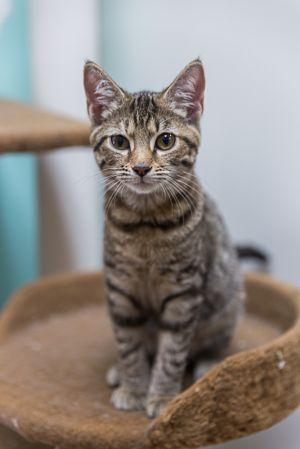bengal: (73, 40, 221, 207)
